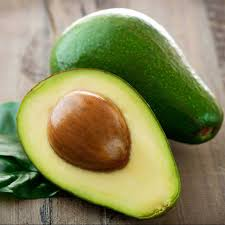aguacate: (15, 67, 184, 219)
